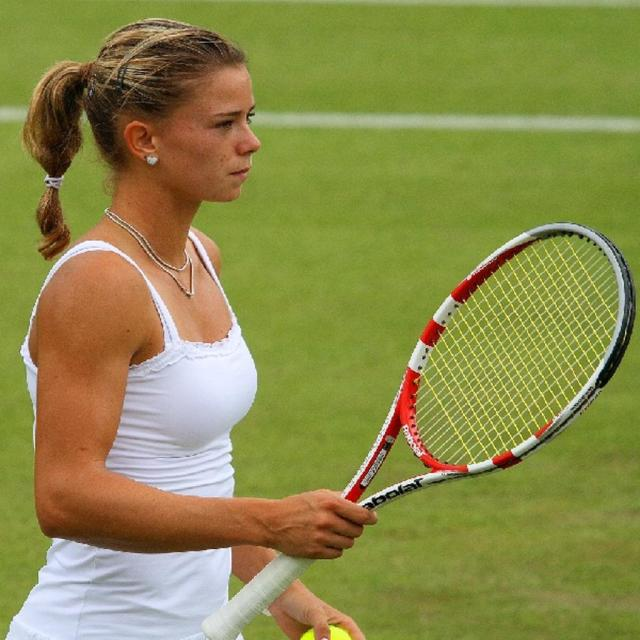Face: (181, 62, 268, 211)
